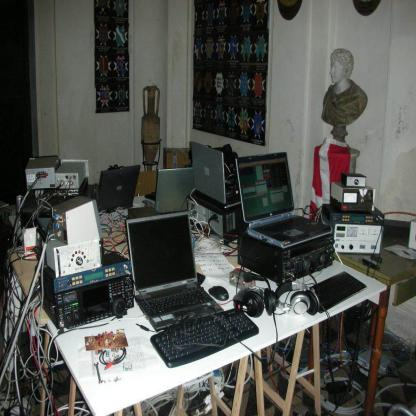board: (126, 206, 226, 352), (234, 152, 332, 250), (191, 139, 242, 209), (145, 168, 195, 216), (98, 166, 140, 212)
